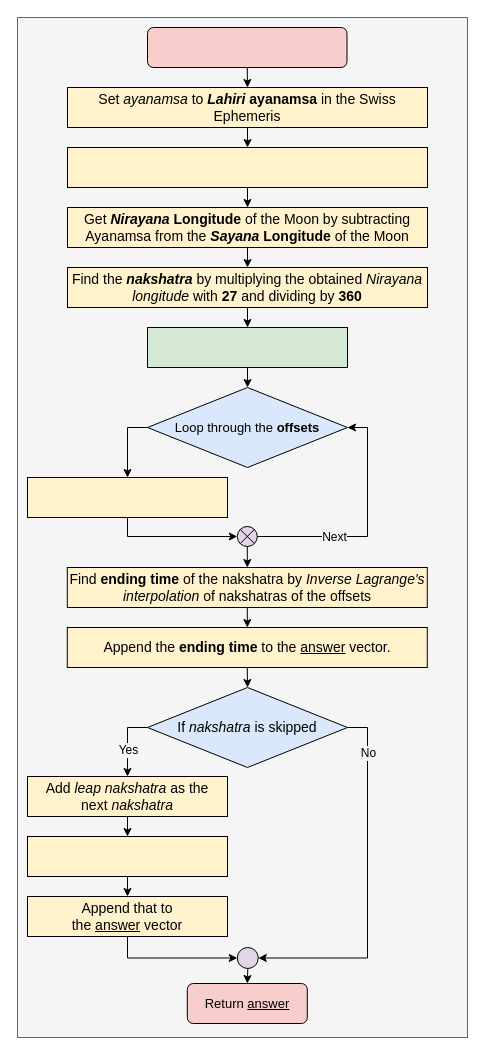
This 485x1055 diagram has some shape labels left out. The shapes that lost their labels are listed below. From the top down, each one's box as (x1, y1, x2, y2) in pixels, then its label:
(146, 26, 347, 68): nakshatra ( jd , place )
(66, 146, 428, 188): Find sunrise time for the given place
(146, 326, 348, 368): Create offsets with an interval of 0.25 days
(26, 476, 228, 518): Find nakshatra the time at ( sunrise + offset )
(26, 836, 228, 876): Find its ending time using the same offsets
